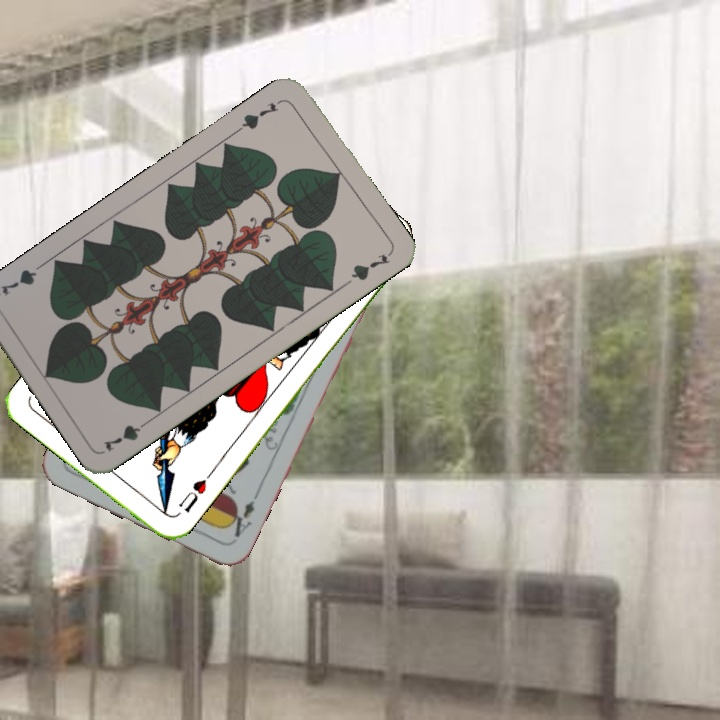EA: (223, 489, 261, 540)
G7: (99, 415, 154, 455), (233, 98, 280, 134)
HU: (174, 469, 215, 515)
